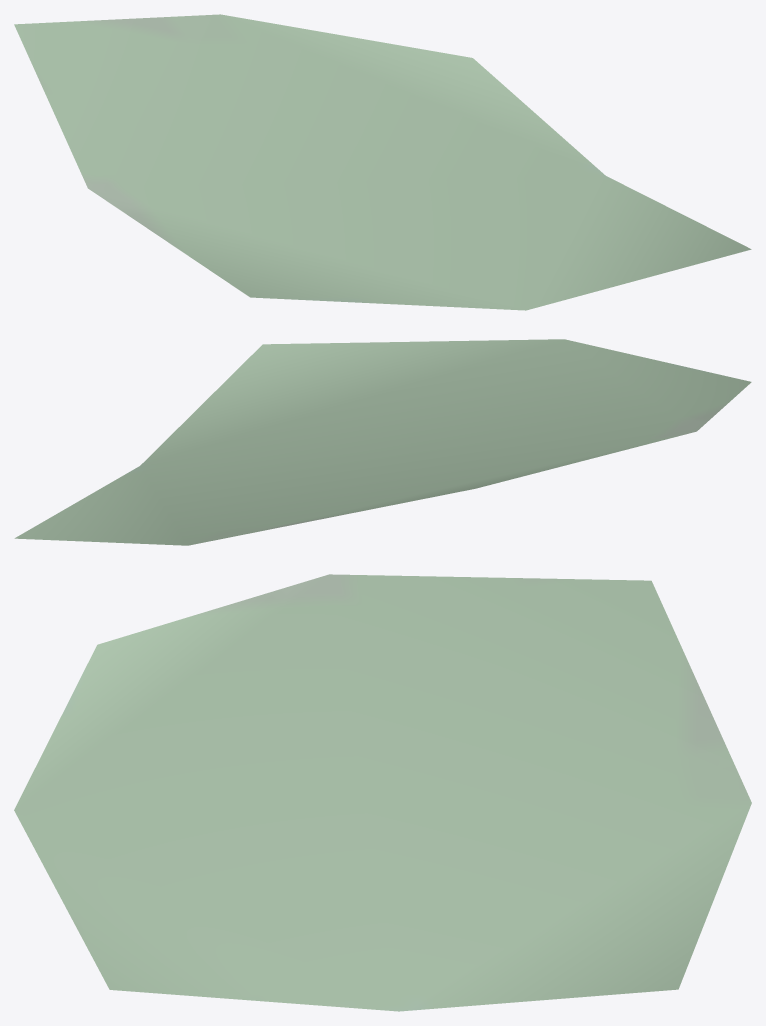
The model's file is TROLLHOLE02_HOLECAP137.fbx.
3 views of the same model, one above another, from view 1: azimuth 30°, elevation 25°; view 2: azimuth 150°, elevation 25°; view 3: azimuth 270°, elevation 25° (orthographic). The views are drawn at different scales.
Parts seen in each view (by area): view 1: TROLLHOLE02_HOLECAP137; view 2: TROLLHOLE02_HOLECAP137; view 3: TROLLHOLE02_HOLECAP137.
Boxes of the visible parts, x1,y1,x2,y2 form: TROLLHOLE02_HOLECAP137: (14,14,751,310); TROLLHOLE02_HOLECAP137: (14,339,751,545); TROLLHOLE02_HOLECAP137: (14,574,751,1011).
Bounding box in the file's own units: 21056 × 6427 × 22823.
1 material, 1 textured.
